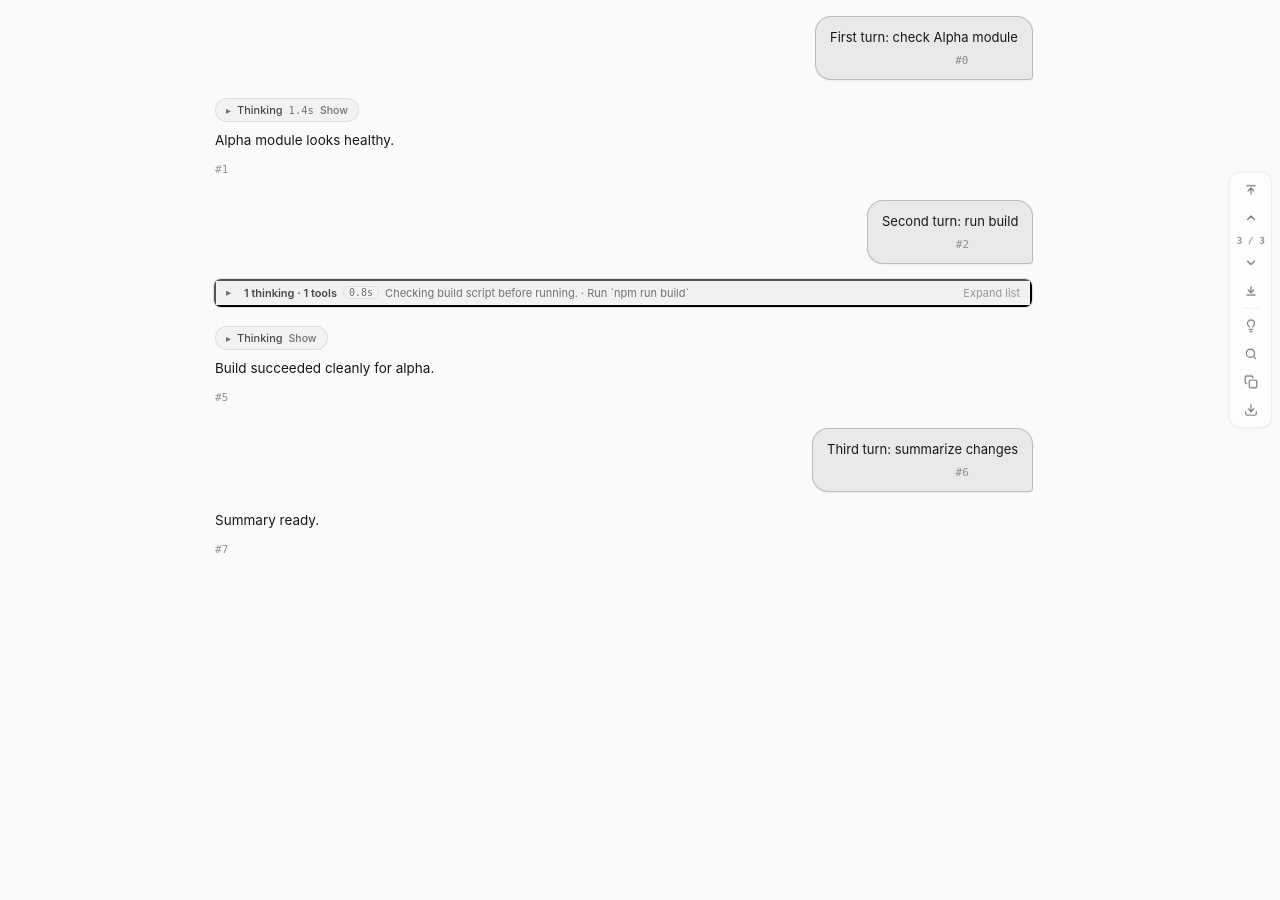
Scenario: ChatNavDock › toggles global thinking blocks across SessionStream and SessionEventCard
Note: Expand all thinking blocks (standalone + intermediate work group thoughts)
What coordinates should you click on to do the following:
click the button with test id "chat-nav-thinking"
I would click on:
 (1251, 326)
Its box is [1238,313,1264,339].
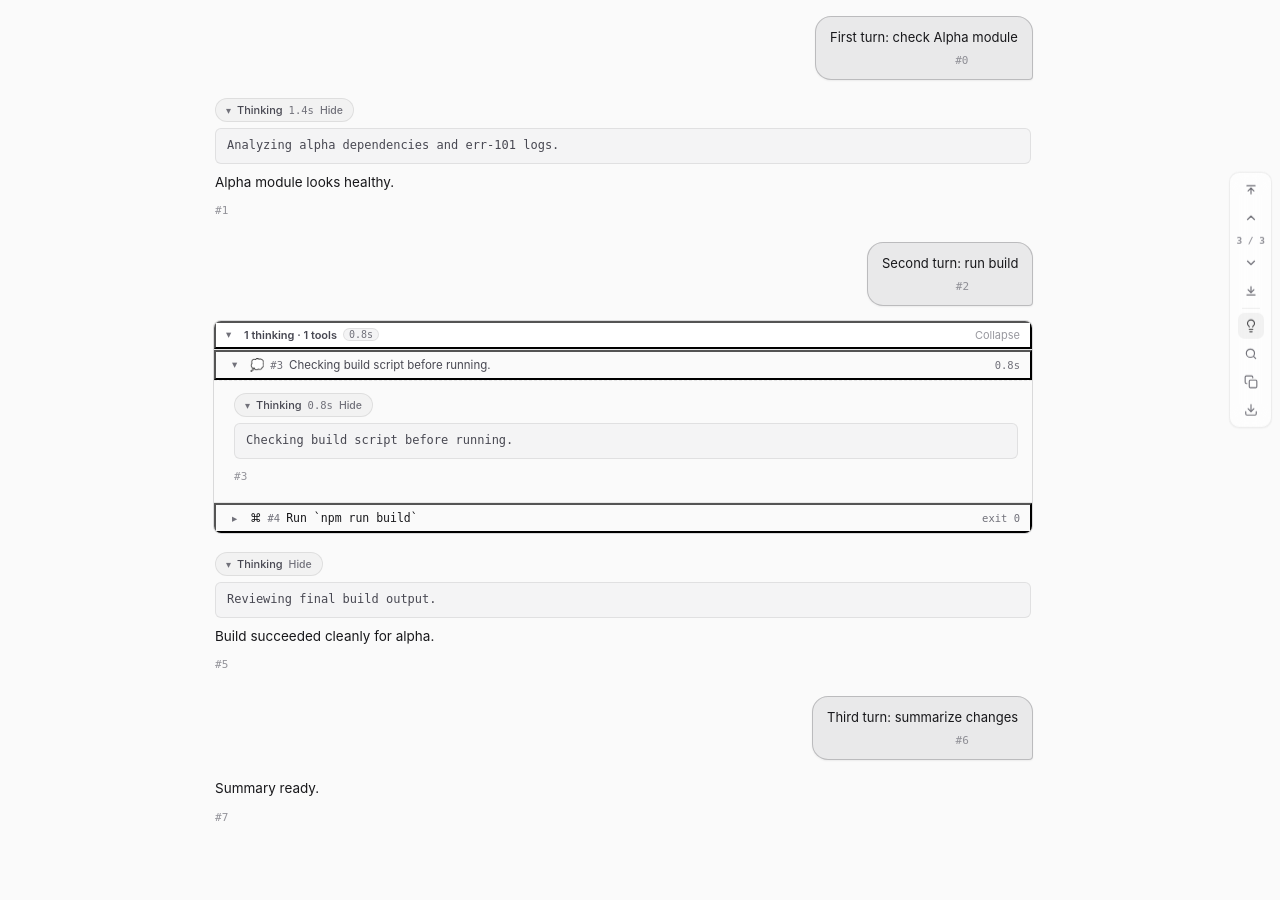
Expected: the button with test id "chat-nav-thinking" is pressed
Note: Collapse all thinking blocks
What coordinates should you click on to do the following:
click the button with test id "chat-nav-thinking"
I would click on:
 (1251, 326)
Its box is [1238,313,1264,339].
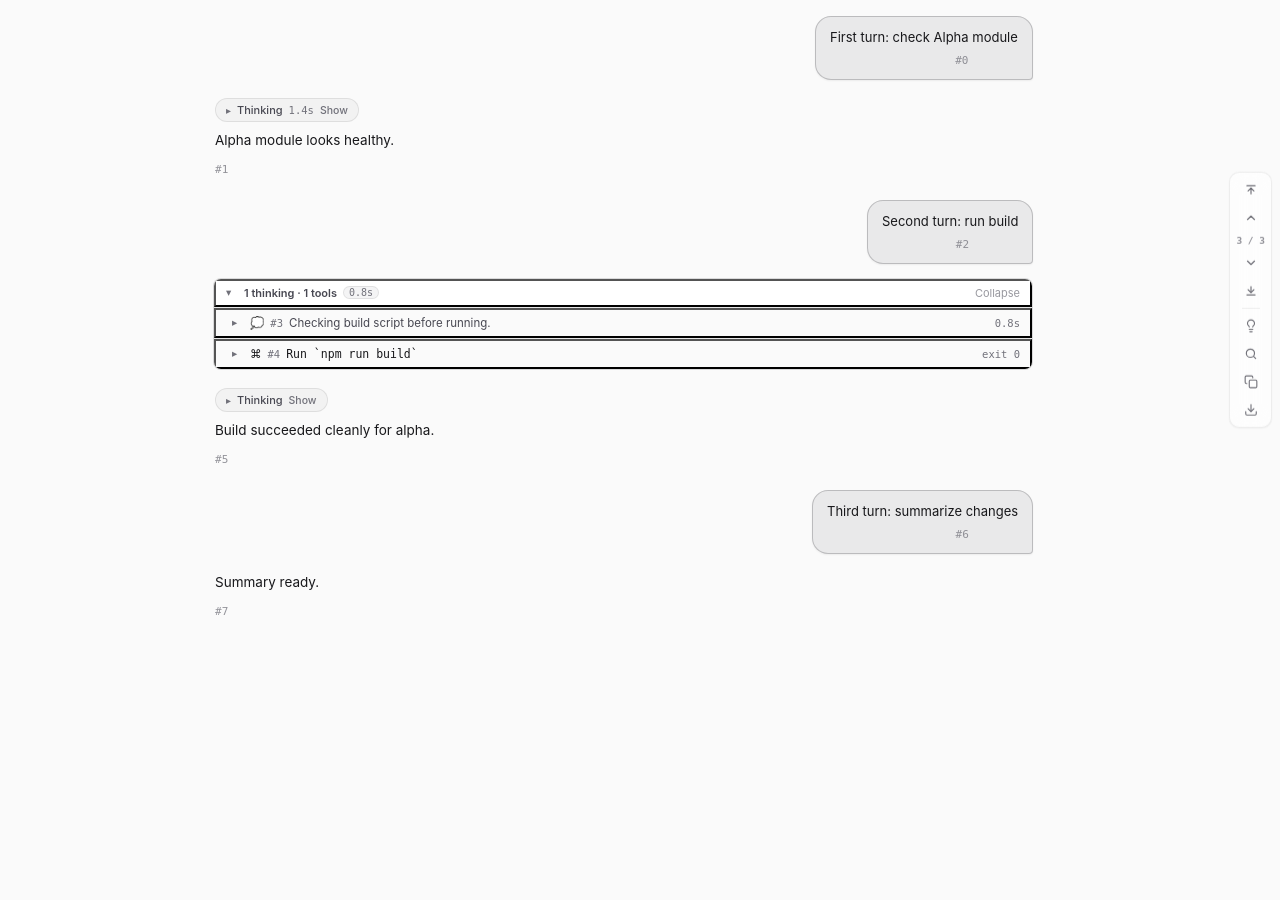
Expected: the text with test id "thinking-content" is gone
